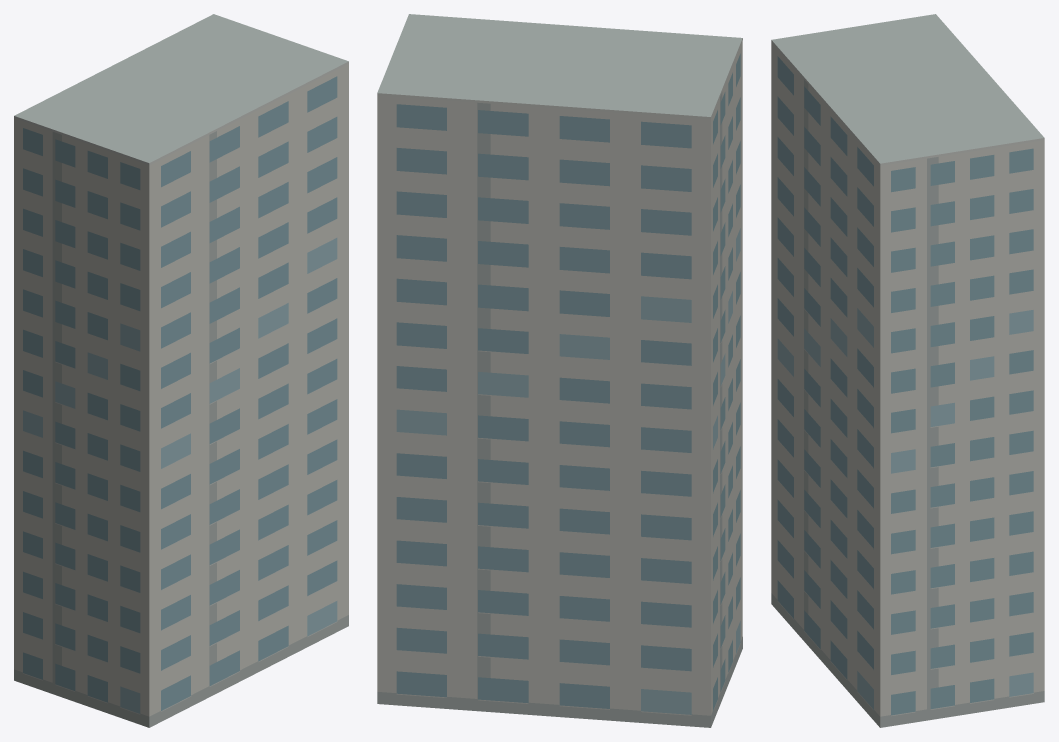
The model's file is residential-0f8431c8-5c70-476a-9919-1b266cd416b6.glb.
3 renders of one model, left to right at view 1: azimuth 30°, elevation 25°; view 2: azimuth 150°, elevation 25°; view 3: azimuth 270°, elevation 25°, orthographic. The views are drawn at different scales.
Parts seen in each view (by area): view 1: residential-0f8431c8-5c70-476a-9919-1b266cd416b6.tmp; view 2: residential-0f8431c8-5c70-476a-9919-1b266cd416b6.tmp; view 3: residential-0f8431c8-5c70-476a-9919-1b266cd416b6.tmp.
Boxes of the visible parts, x1=… form: residential-0f8431c8-5c70-476a-9919-1b266cd416b6.tmp: x1=14, y1=14, x2=348, y2=727; residential-0f8431c8-5c70-476a-9919-1b266cd416b6.tmp: x1=377, y1=14, x2=742, y2=727; residential-0f8431c8-5c70-476a-9919-1b266cd416b6.tmp: x1=771, y1=14, x2=1044, y2=727.
Size of the model in its own units: 34.71 by 61 by 26.78.
